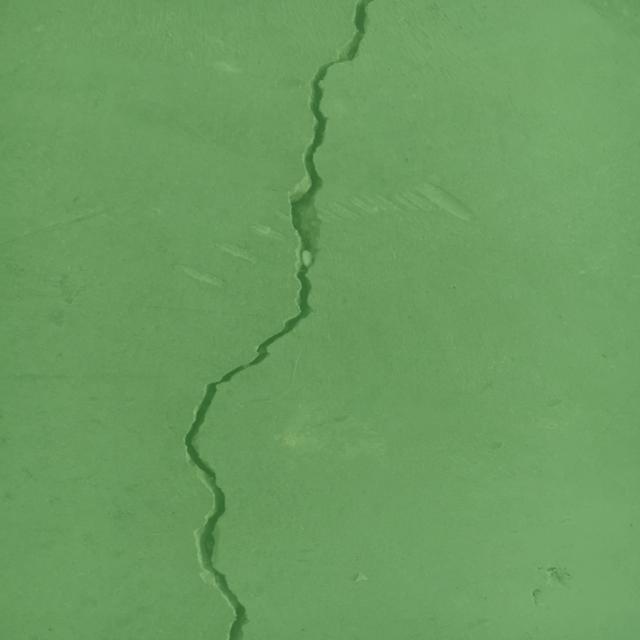crack: (183, 0, 374, 640)
